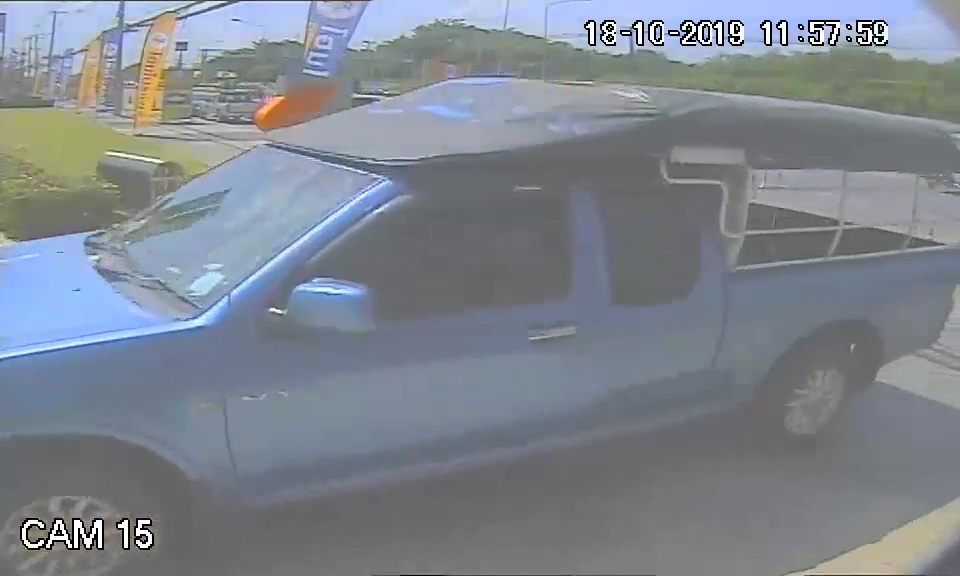pickup: (3, 74, 958, 507)
